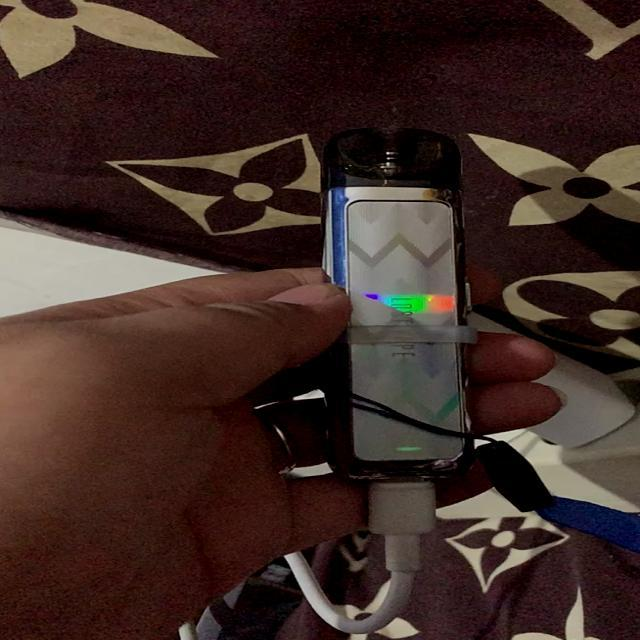Hazard: (317, 134, 471, 482)
